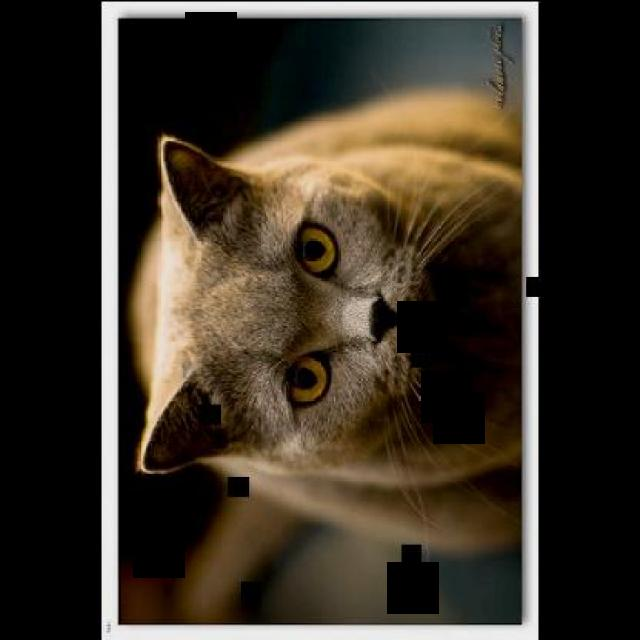unauthorized: (126, 25, 522, 620)
